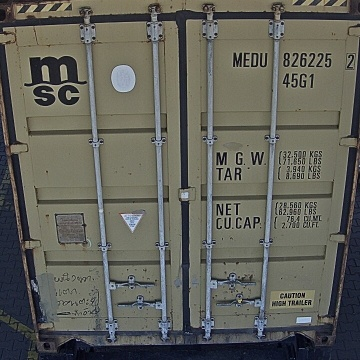serial_id: (232, 52, 355, 68)
